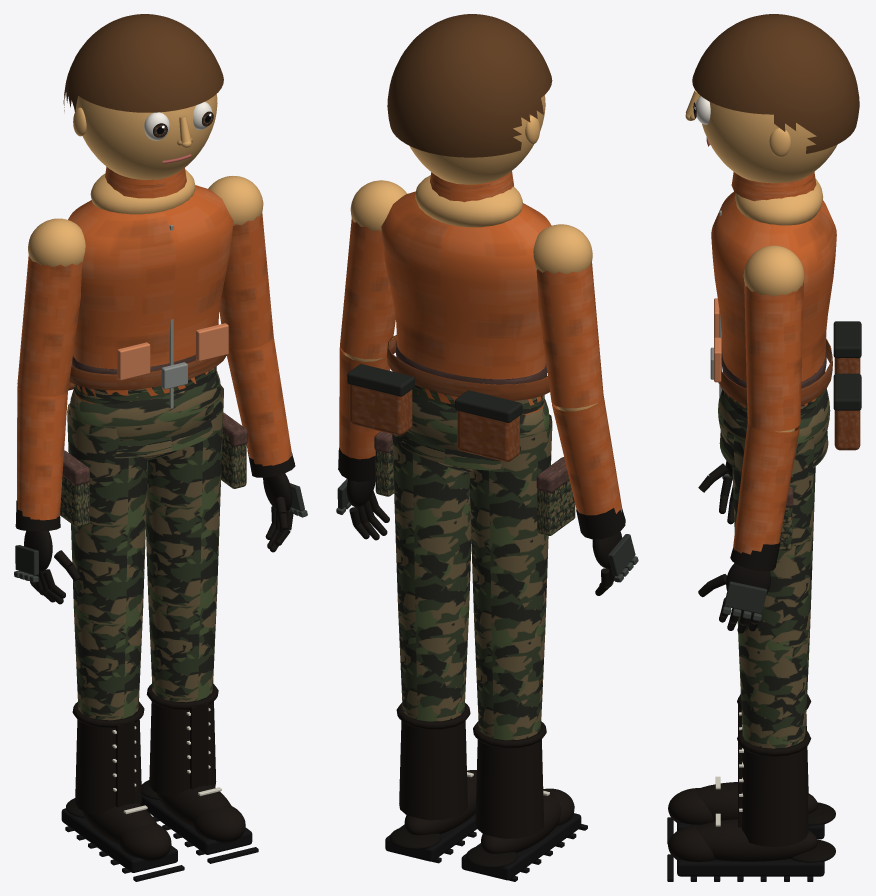
Rendered from 04-sacoches-de-ceinture.glb.
3 renders of one model, left to right at view 1: azimuth 30°, elevation 25°; view 2: azimuth 150°, elevation 25°; view 3: azimuth 270°, elevation 25°, orthographic. The views are drawn at different scales.
Bounding box in the file's own units: 0.6344 × 1.77 × 0.375.
Materials: 28 (5 with a texture image).
